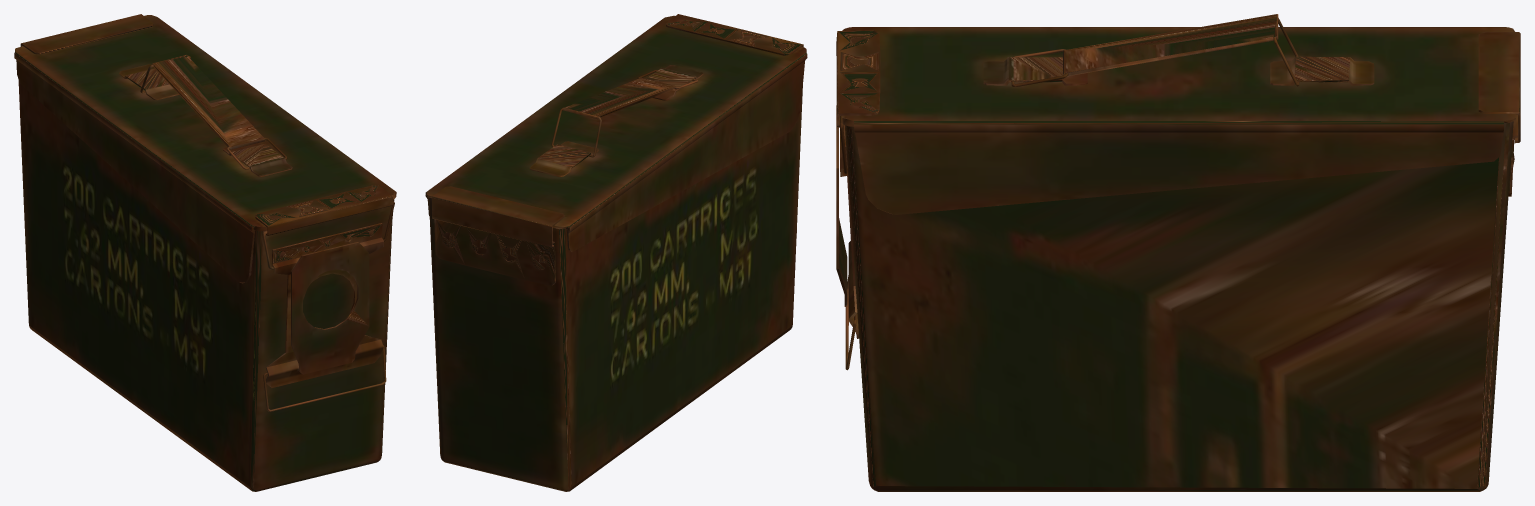
Rendered from ammo_box.glb.
3 views of the same model, side by side, from view 1: azimuth 30°, elevation 25°; view 2: azimuth 150°, elevation 25°; view 3: azimuth 270°, elevation 25° (orthographic). The views are drawn at different scales.
Parts seen in each view (by area): view 1: ammo_box, ammo_box_handle, ammo_box_latch; view 2: ammo_box, ammo_box_handle; view 3: ammo_box, ammo_box_handle.
Part boxes in pixels (<box>): ammo_box: <box>14,14,396,491</box>; ammo_box_handle: <box>152,54,265,149</box>; ammo_box_latch: <box>263,345,386,411</box>; ammo_box: <box>425,14,807,491</box>; ammo_box_handle: <box>563,77,675,119</box>; ammo_box: <box>836,27,1520,491</box>; ammo_box_handle: <box>1063,14,1278,76</box>.
Bounding box in the file's own units: 0.0865 × 0.1773 × 0.2578.
1 material, 1 textured.
